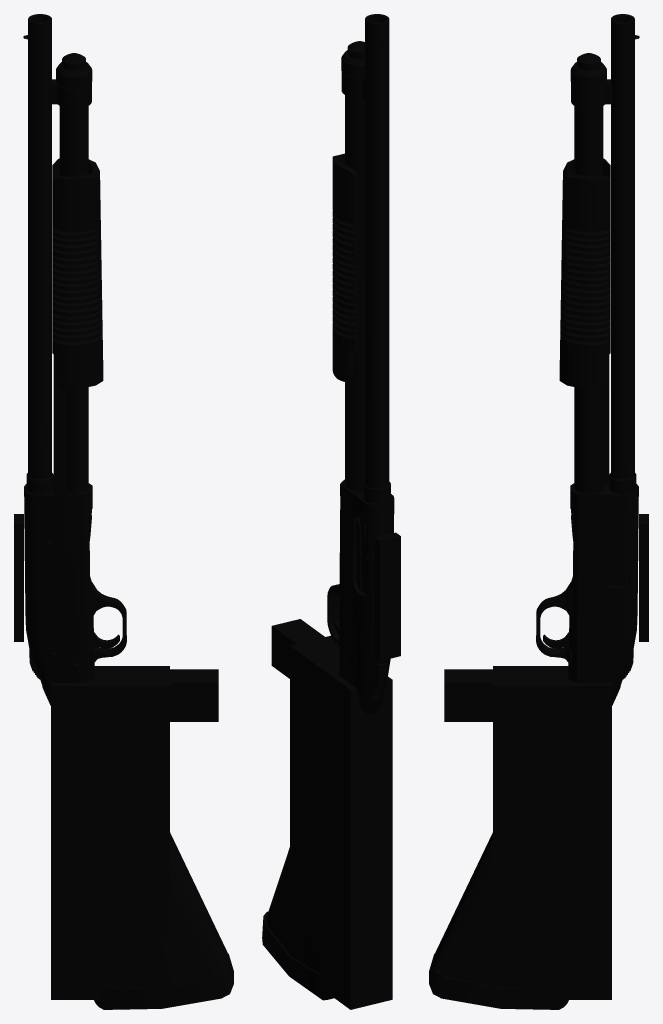
File: M590__Mount_ScopeBase__Stock_M590_PistolGrip.fbx
The picture shows the model from 3 angles, left to right: view 1: azimuth 90°, elevation 25°; view 2: azimuth 210°, elevation 25°; view 3: azimuth 270°, elevation 25°; orthographic projection.
Visible parts, largest first — view 1: asset_M590.001; view 2: asset_M590.001; view 3: asset_M590.001.
Part boxes in pixels (left/top/right/bottom): asset_M590.001: left=14, top=14, right=233, bottom=1009; asset_M590.001: left=262, top=14, right=400, bottom=1009; asset_M590.001: left=429, top=14, right=648, bottom=1009.
Bounding box in the file's own units: 0.0323 × 0.6 × 0.1218.
